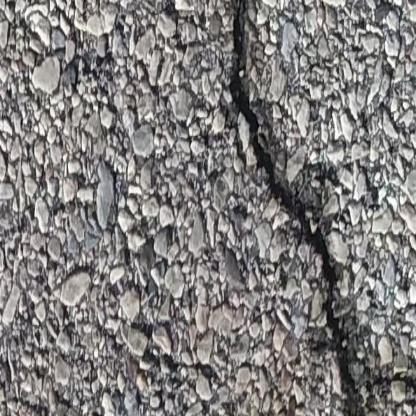Cracks: (218, 0, 416, 416)
